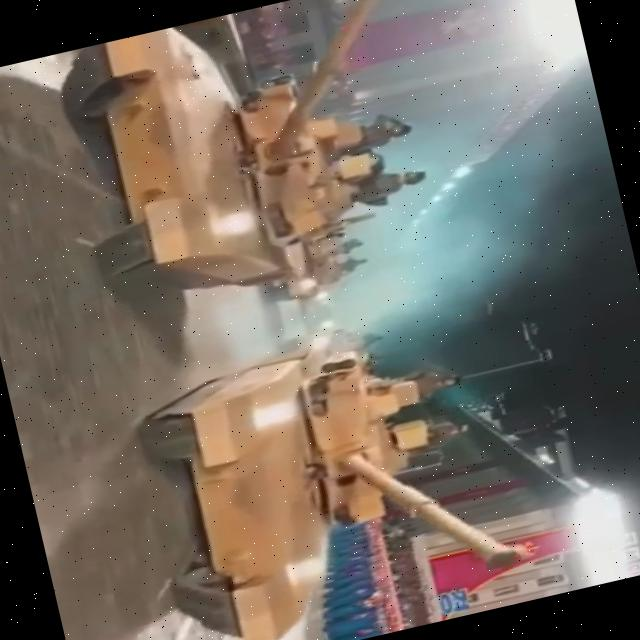north tank: (21, 0, 504, 358), (98, 303, 562, 640), (230, 216, 394, 322)
